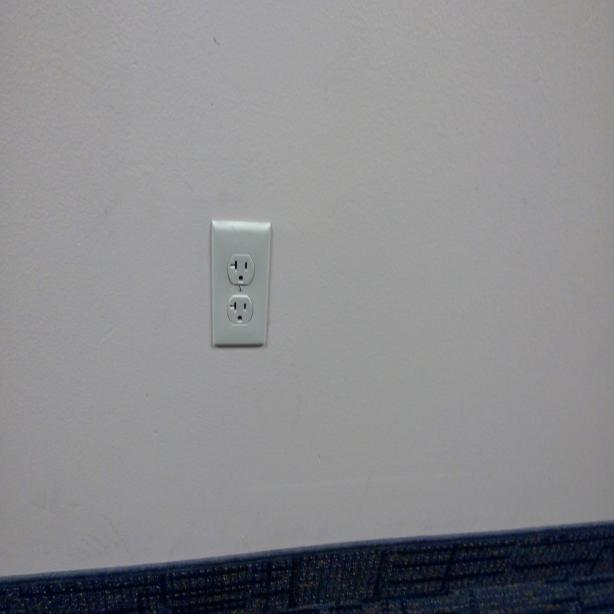typeb: (228, 253, 255, 287), (227, 294, 250, 326)
